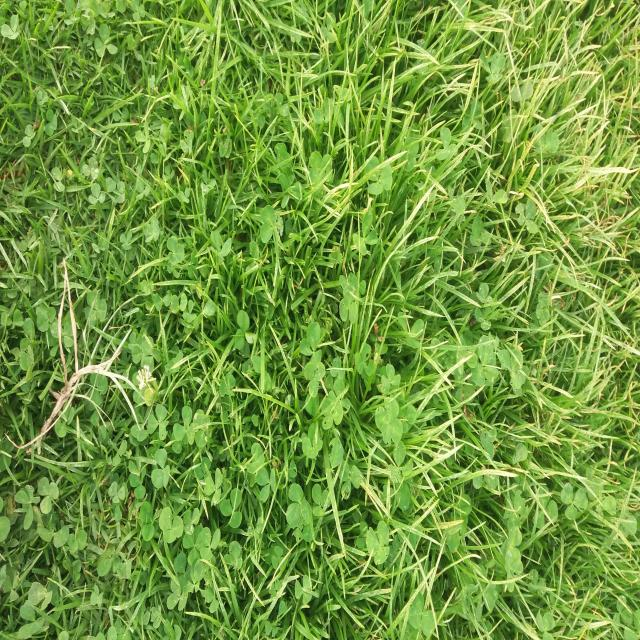Four Leaf Clover: (375, 399, 403, 446), (144, 217, 160, 243)
